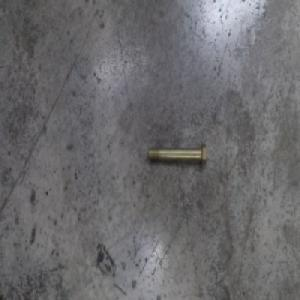Bolt: (146, 141, 207, 167)
